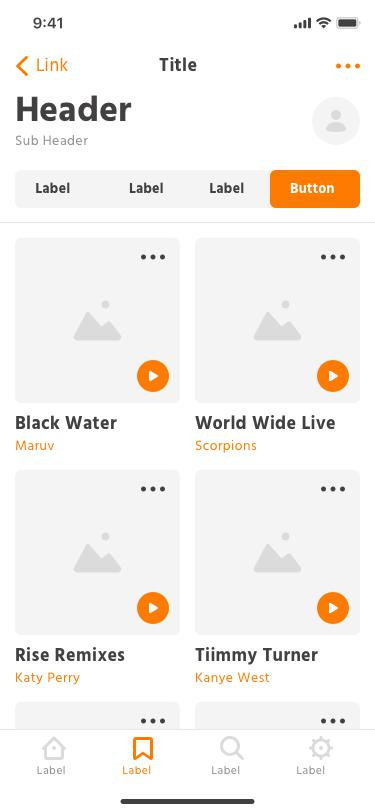Bottom_Navigation: (1, 729, 375, 788)
Icon: (14, 469, 178, 632), (311, 96, 361, 146), (135, 591, 170, 625), (136, 358, 170, 392), (316, 360, 350, 393), (316, 592, 350, 625), (218, 735, 245, 761), (42, 736, 67, 761), (308, 735, 333, 760), (132, 736, 155, 761), (16, 56, 31, 78), (334, 61, 362, 72), (139, 252, 167, 262), (319, 253, 346, 262), (318, 717, 348, 725), (139, 485, 167, 493), (319, 485, 347, 493), (139, 717, 165, 725)
Image: (14, 237, 181, 405), (194, 237, 361, 404), (193, 469, 359, 634)
Text: (16, 95, 133, 122), (194, 414, 336, 432), (194, 646, 319, 666), (14, 414, 119, 431), (15, 646, 126, 662), (194, 670, 271, 686), (195, 438, 258, 454), (15, 671, 82, 686), (15, 134, 89, 147), (159, 55, 198, 73), (36, 56, 70, 73), (208, 181, 245, 195), (128, 181, 165, 195), (14, 440, 56, 452), (35, 181, 71, 195), (122, 764, 152, 776), (36, 764, 68, 775), (210, 765, 241, 776), (295, 765, 326, 776)
TextButton: (270, 170, 361, 209)
Toolbar: (1, 41, 375, 85)
UpperTaskBar: (33, 17, 362, 31)
